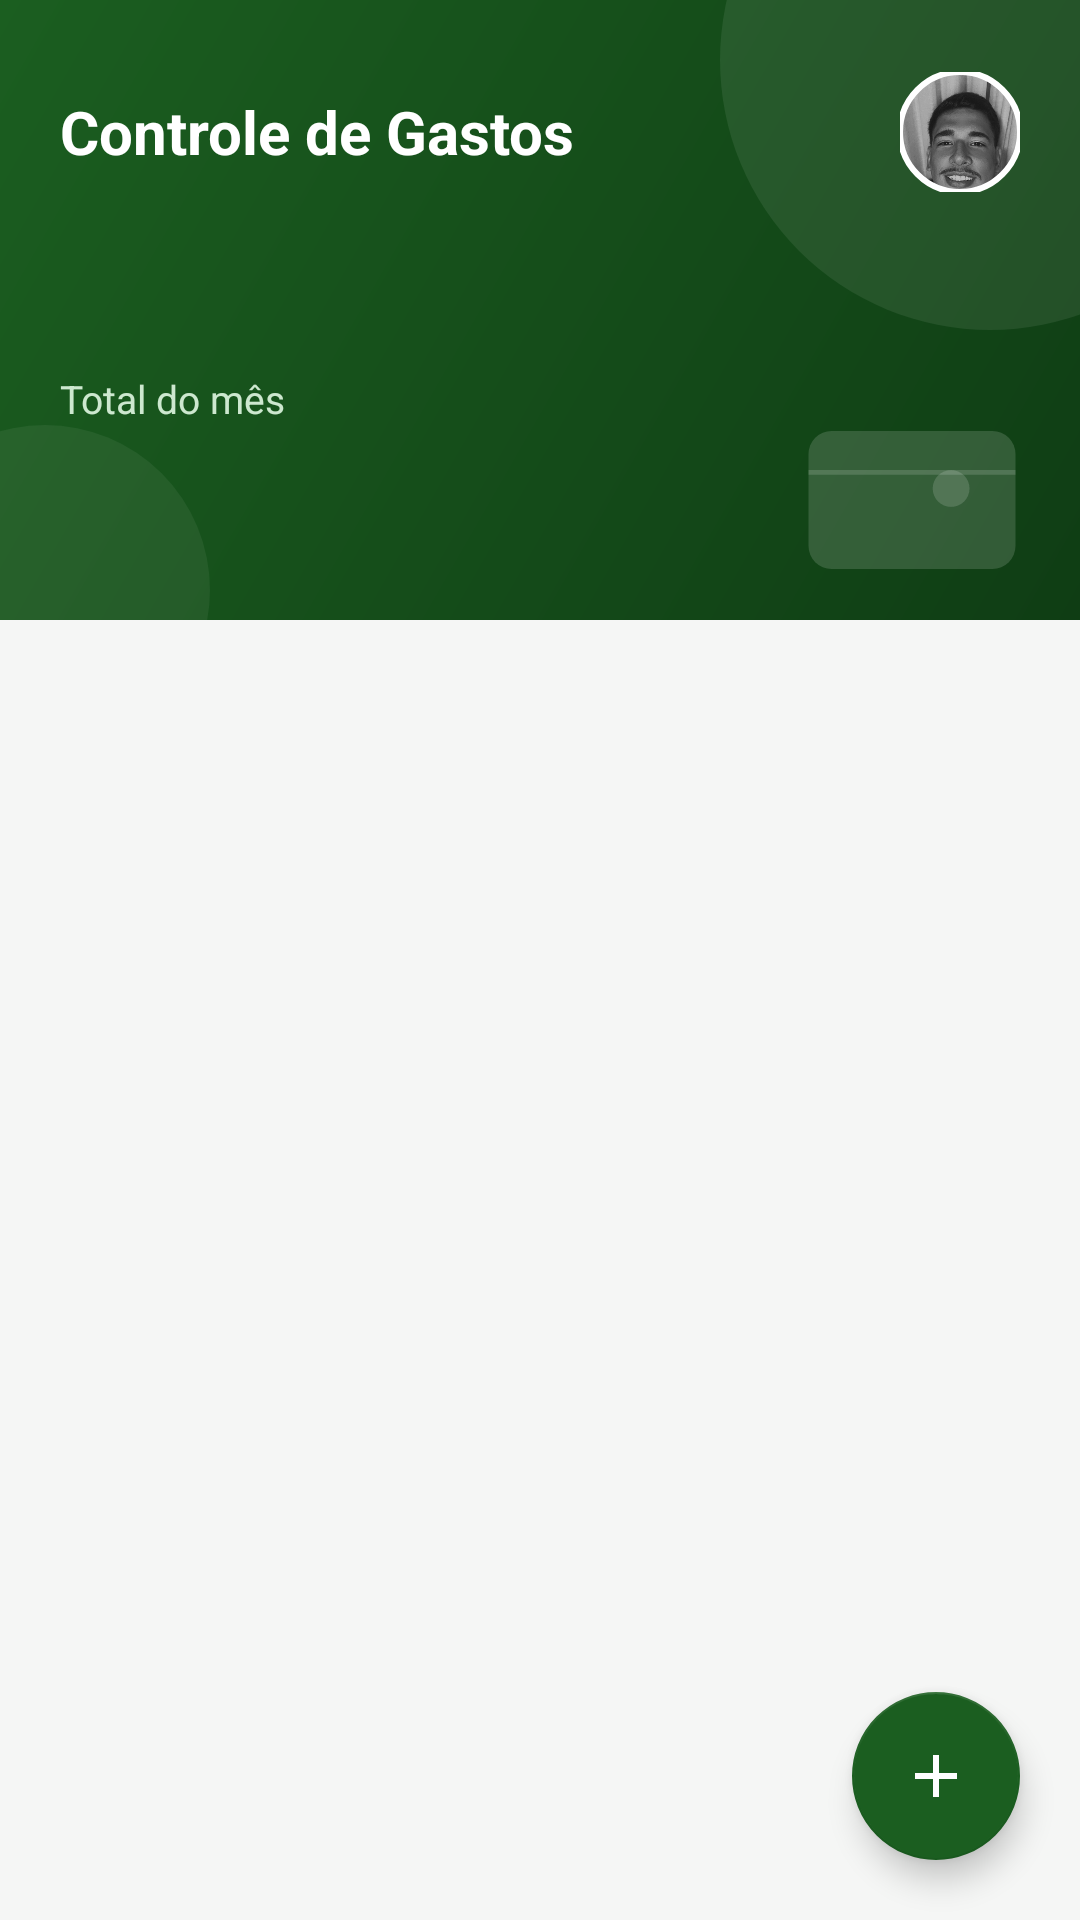

Where to tap for icons on this 1080*1920 app screen, as point (x, y):
Adicionar despesa: point (936, 1776)
Foto de perfil: point (960, 132)
